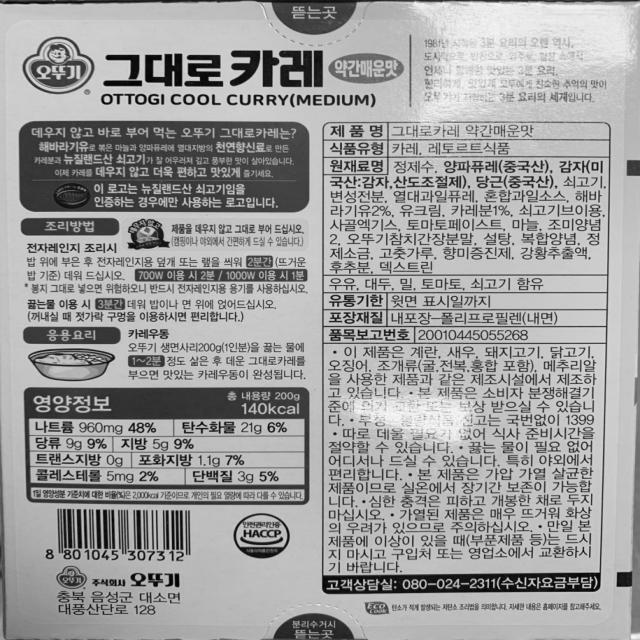Nutrition Label: (8, 377, 327, 508)
